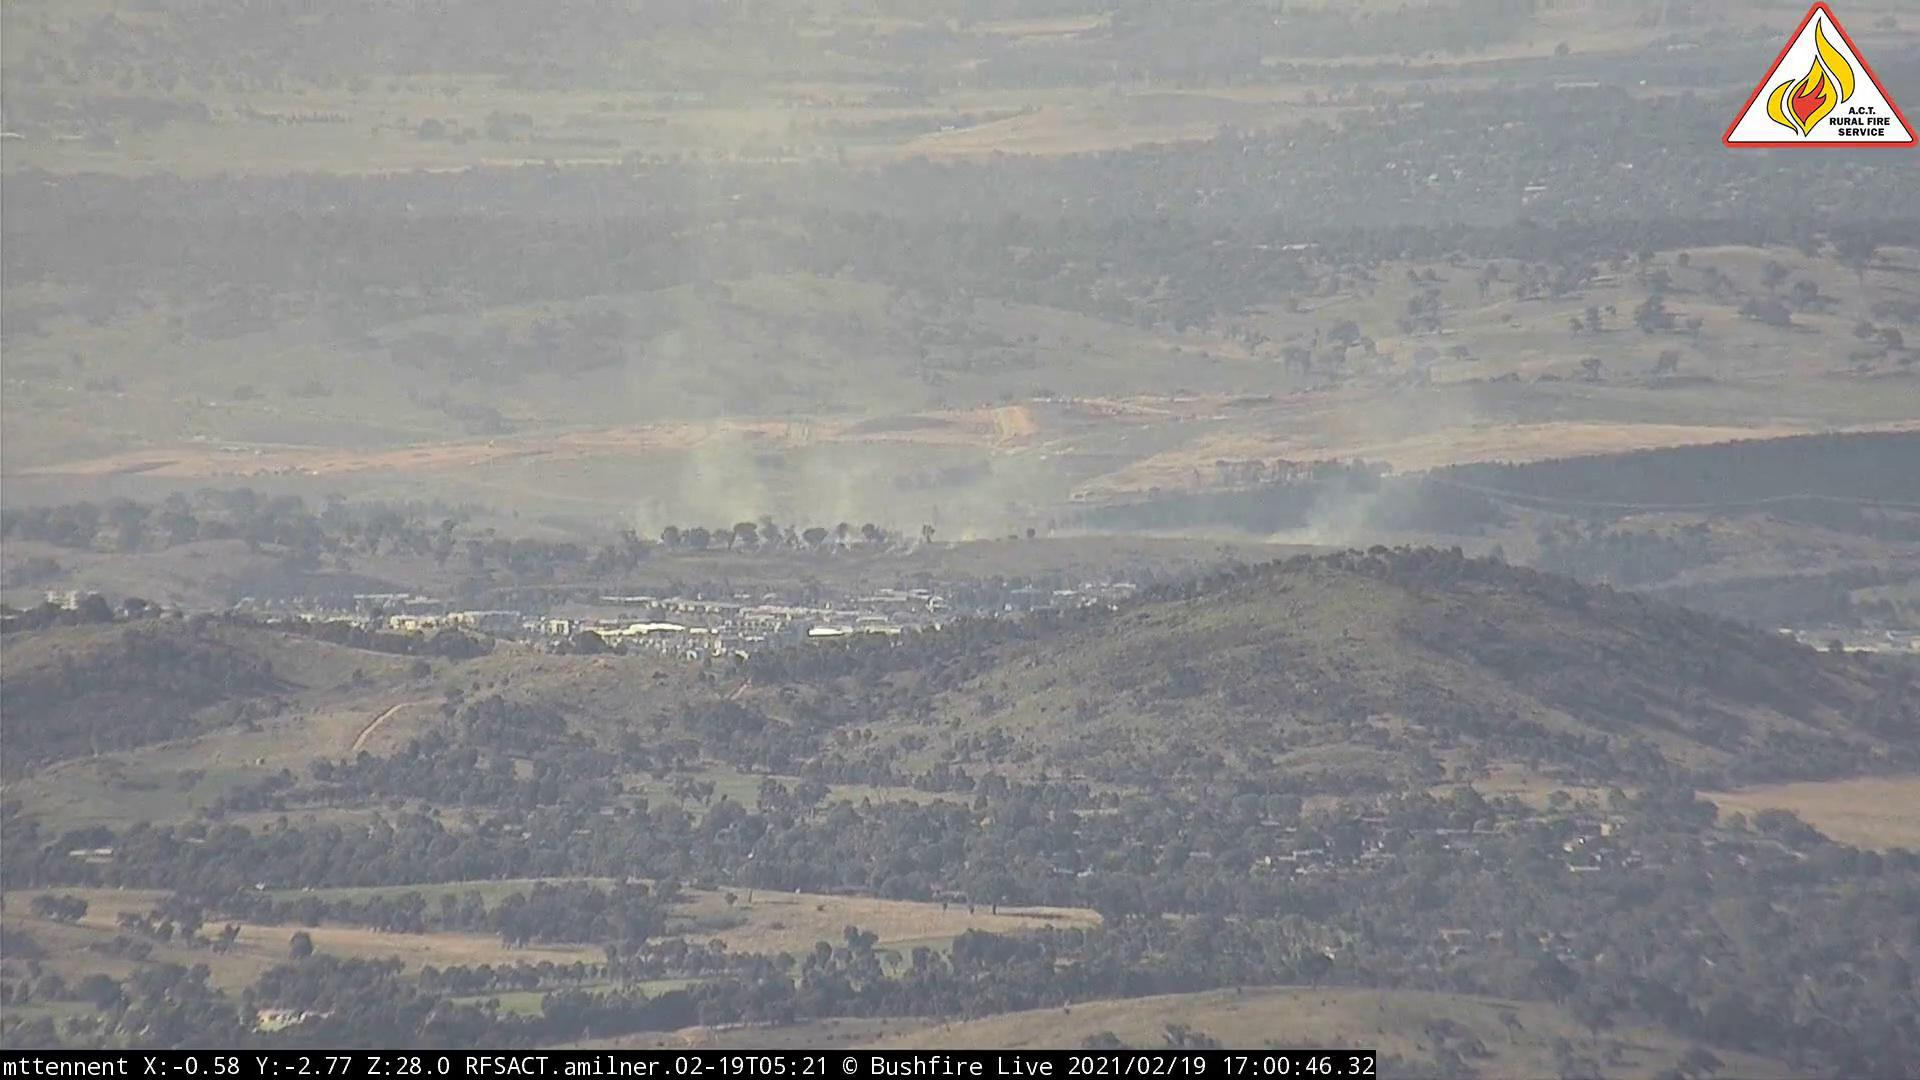Smoke: (654, 281, 1039, 550), (1261, 335, 1506, 550)
